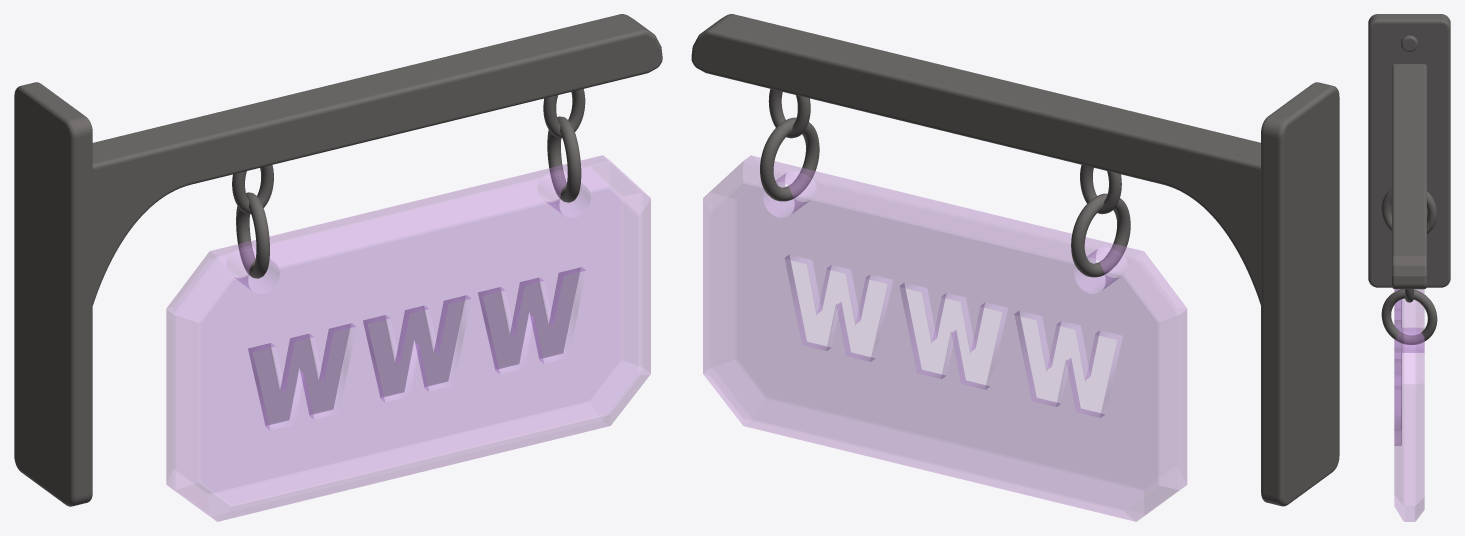
File: api-gateway-domain-name.glb
3 views of the same model, side by side, from view 1: azimuth 30°, elevation 25°; view 2: azimuth 150°, elevation 25°; view 3: azimuth 270°, elevation 25° (orthographic). The views are drawn at different scales.
Parts seen in each view (by area): view 1: Facet-cut violet hostname plaque, Cantilever arm with swept gusset, Perpendicular wall mounting plate, Right hanging link, Left hanging link, Right upper eye, Left upper eye; view 2: Facet-cut violet hostname plaque, Cantilever arm with swept gusset, Perpendicular wall mounting plate, Left hanging link, Right hanging link, Right upper eye, Left upper eye; view 3: Perpendicular wall mounting plate, Cantilever arm with swept gusset, Facet-cut violet hostname plaque, Right hanging link, Left hanging link, Mounting stud 1, Right upper eye.
Part boxes in pixels (x1=…): Facet-cut violet hostname plaque: x1=166, y1=155, x2=650, y2=521; Cantilever arm with swept gusset: x1=92, y1=14, x2=662, y2=305; Perpendicular wall mounting plate: x1=14, y1=82, x2=92, y2=506; Right hanging link: x1=547, y1=116, x2=581, y2=202; Left hanging link: x1=236, y1=192, x2=269, y2=278; Right upper eye: x1=543, y1=89, x2=585, y2=138; Left upper eye: x1=232, y1=165, x2=273, y2=214; Facet-cut violet hostname plaque: x1=703, y1=155, x2=1186, y2=521; Cantilever arm with swept gusset: x1=691, y1=14, x2=1260, y2=304; Perpendicular wall mounting plate: x1=1261, y1=82, x2=1339, y2=506; Left hanging link: x1=1071, y1=193, x2=1130, y2=277; Right hanging link: x1=760, y1=117, x2=819, y2=201; Right upper eye: x1=768, y1=89, x2=810, y2=138; Left upper eye: x1=1080, y1=165, x2=1121, y2=214; Perpendicular wall mounting plate: x1=1368, y1=14, x2=1450, y2=287; Cantilever arm with swept gusset: x1=1392, y1=64, x2=1426, y2=289; Facet-cut violet hostname plaque: x1=1394, y1=289, x2=1424, y2=521; Right hanging link: x1=1381, y1=289, x2=1437, y2=344; Left hanging link: x1=1381, y1=188, x2=1437, y2=234; Mounting stud 1: x1=1401, y1=35, x2=1417, y2=51; Right upper eye: x1=1405, y1=289, x2=1413, y2=302.
Bounding box in the file's own units: 4.03 × 2.89 × 0.68.
